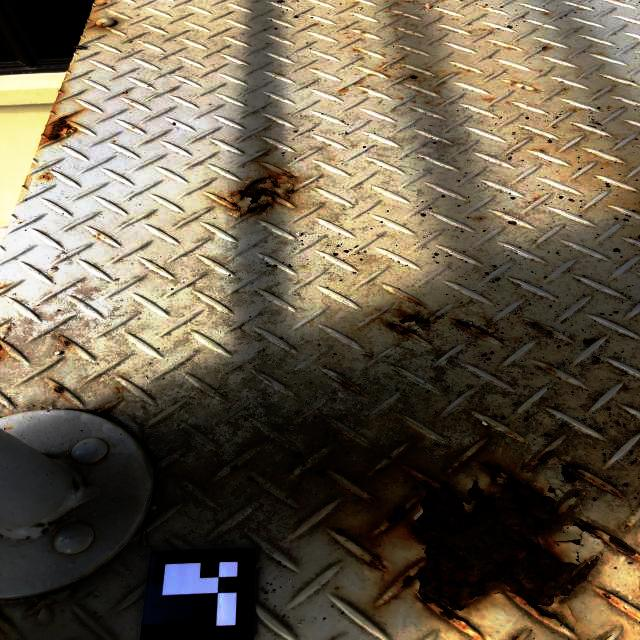Corrosion: (387, 460, 640, 630), (220, 170, 296, 215), (559, 462, 625, 498), (384, 310, 439, 336), (45, 114, 74, 142), (452, 318, 490, 337), (597, 590, 625, 610), (529, 320, 558, 337), (531, 450, 552, 471), (366, 558, 385, 572), (404, 295, 426, 307), (89, 406, 111, 415), (52, 384, 65, 394), (341, 380, 354, 389), (61, 340, 72, 347), (368, 499, 378, 506), (625, 527, 634, 532), (0, 343, 3, 354), (99, 22, 105, 27)
